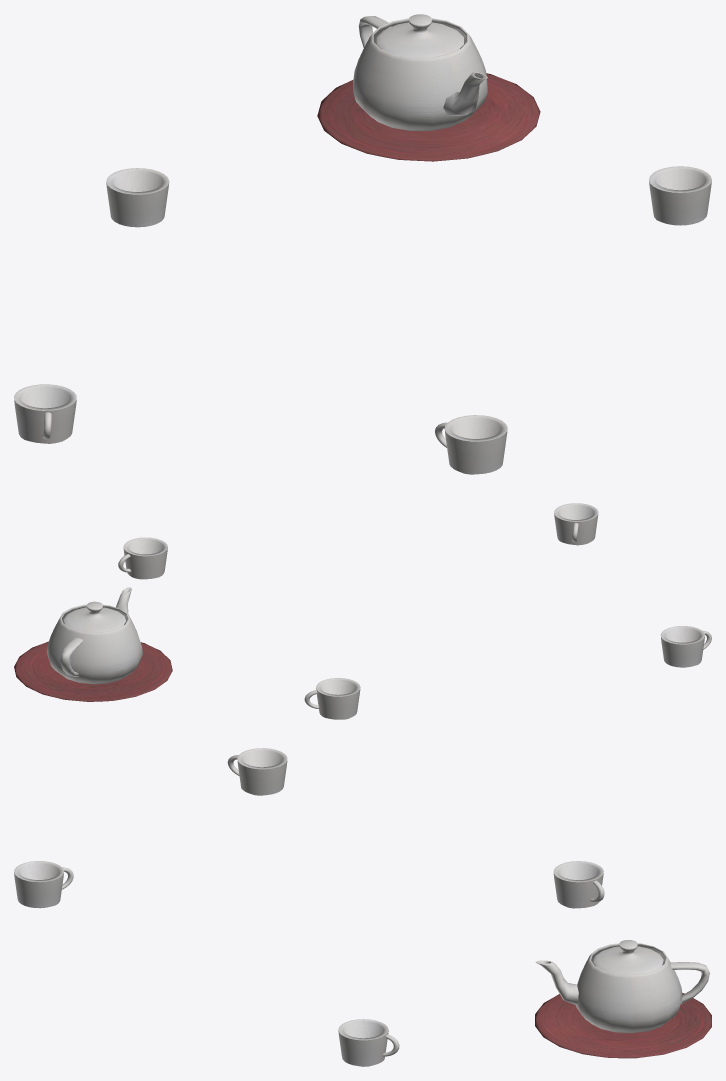
The model's file is Teaset.FBX.
3 views of the same model, one above another, from view 1: azimuth 30°, elevation 25°; view 2: azimuth 150°, elevation 25°; view 3: azimuth 270°, elevation 25° (orthographic). The views are drawn at different scales.
Parts seen in each view (by area): view 1: GeoSphere009, Cone150, Cone151, Cone152, Cone153; view 2: GeoSphere009, Cone153, Cone151, Cone150, Cone152; view 3: GeoSphere009, Cone153, Cone152, Cone150, Cone151.
Boxes of the visible parts, x1,y1,x2,y2 form: GeoSphere009: (317,14,540,161); Cone150: (649,166,711,225); Cone151: (106,168,169,227); Cone152: (444,415,507,474); Cone153: (14,384,76,443); GeoSphere009: (14,587,172,701); Cone153: (660,626,704,667); Cone151: (316,678,360,719); Cone150: (123,537,167,579); Cone152: (554,503,598,545); GeoSphere009: (535,940,711,1058); Cone153: (237,748,287,795); Cone152: (14,861,64,908); Cone150: (338,1019,388,1066); Cone151: (553,861,603,908).
Size of the model in its own units: 82.85 by 10.48 by 83.35.
Materials: 2 (2 with a texture image).
